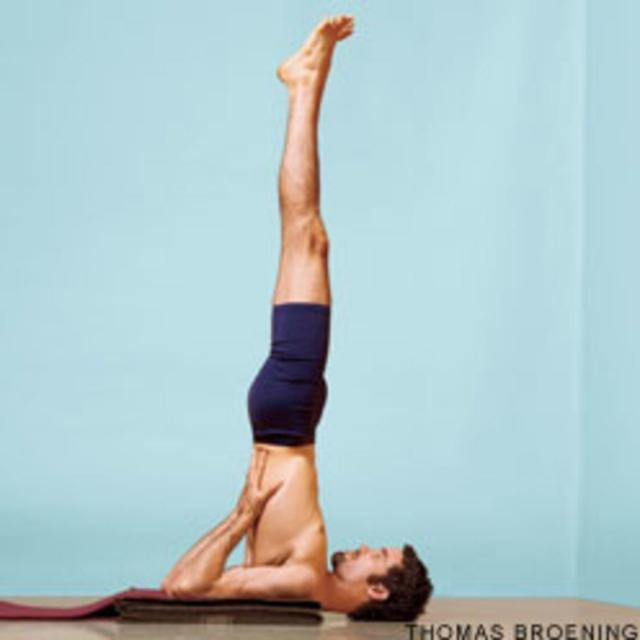yoga-pose shoulderstand: (168, 16, 436, 618)
